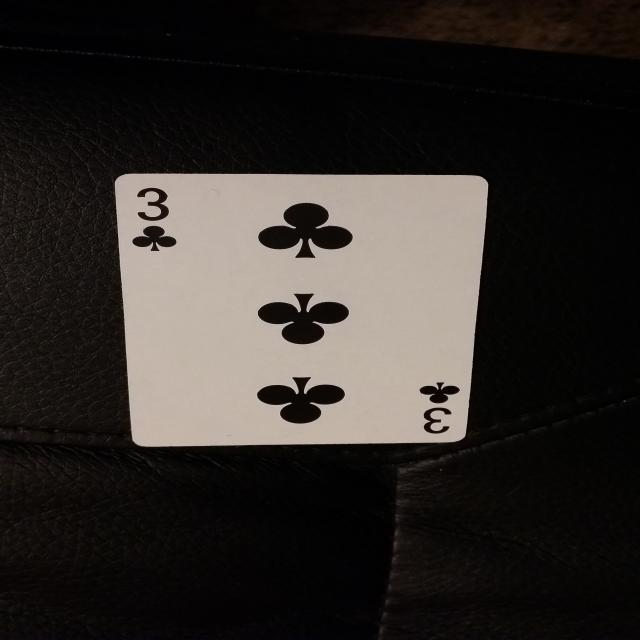3c: (121, 179, 189, 260), (402, 372, 465, 439)
